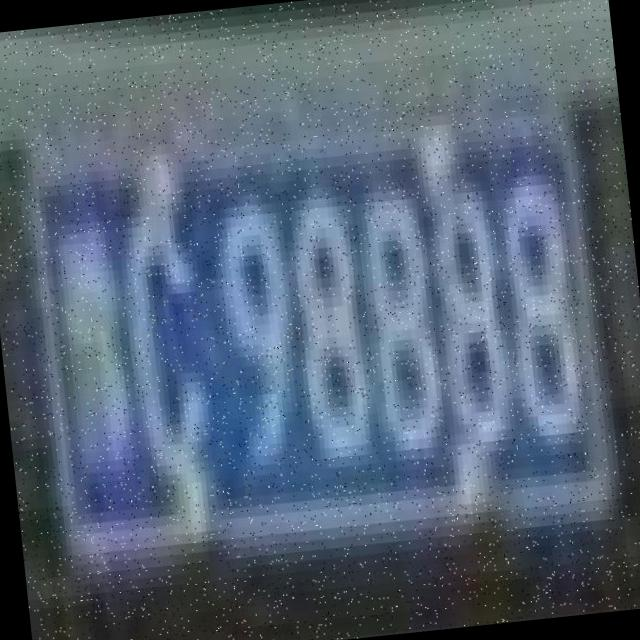LicensePlate: (8, 61, 622, 568)
